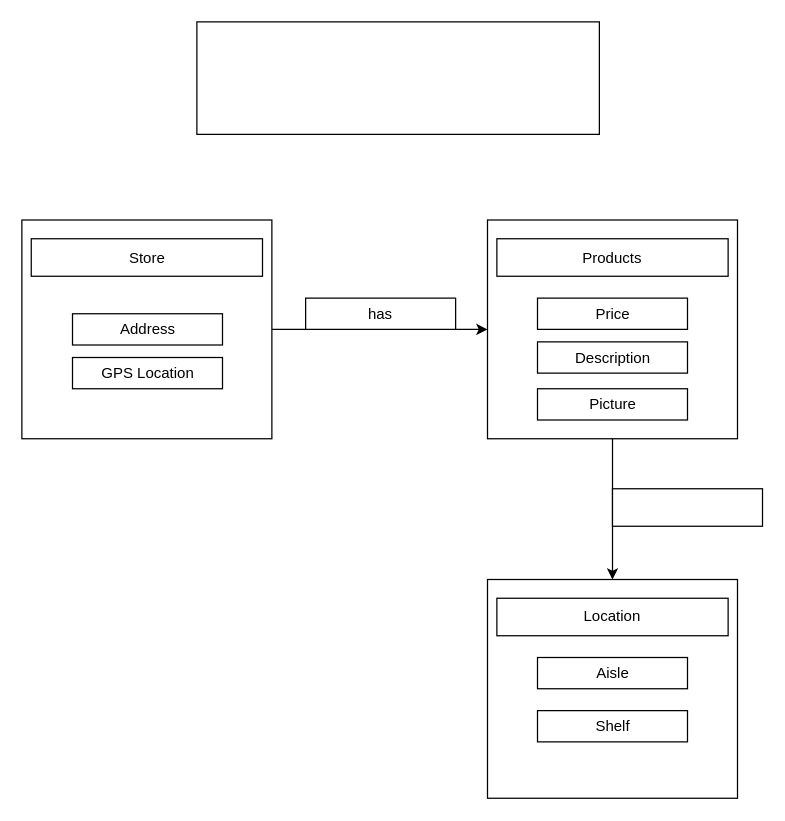
Some shapes in this 785 by 821 pixel diagram are drawn without their labels. Each missing label, with the centre of its shape:
"located at" goes at point (686, 507).
"U Shopp Diagram" goes at point (397, 77).
